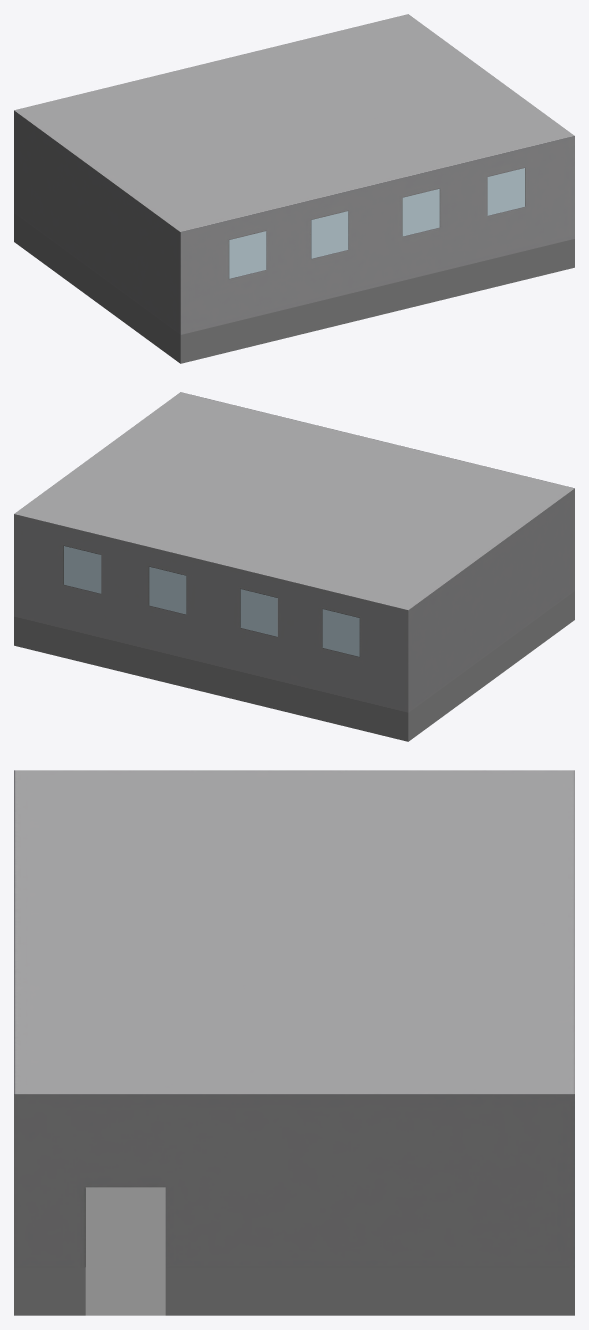
Rendered from 瓦斯抽放系统.glb.
3 renders of one model, top to bottom at view 1: azimuth 30°, elevation 25°; view 2: azimuth 150°, elevation 25°; view 3: azimuth 270°, elevation 25°, orthographic. The views are drawn at different scales.
Visible parts, largest first — view 1: 墙.001; view 2: 墙.001; view 3: 墙.001.
Part boxes in pixels (x1,y1,x2,y2): 墙.001: (14,14,574,363); 墙.001: (14,392,574,741); 墙.001: (14,770,574,1315).
Size of the model in its own units: 25.6 by 8.16 by 18.74.
Materials: 8 (3 with a texture image).
